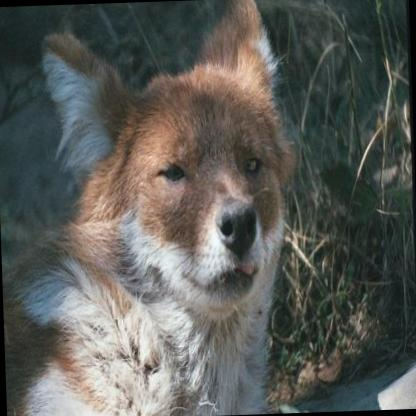dhole: (0, 0, 300, 416)
